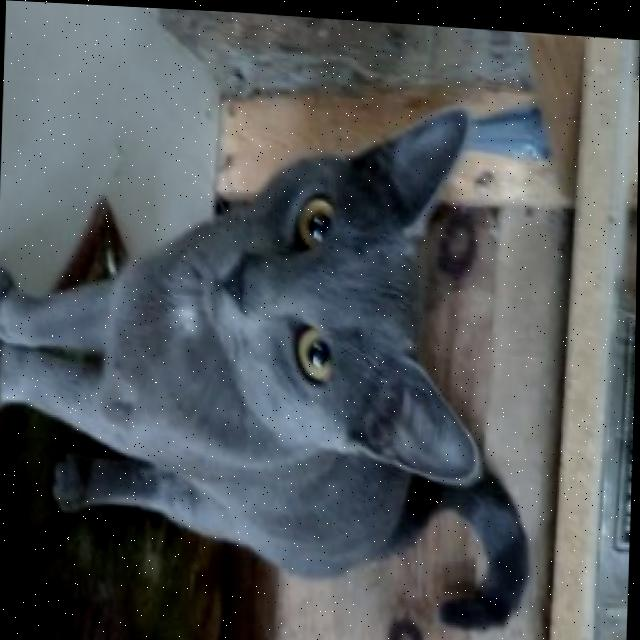Russian Blue: (0, 70, 549, 629)
